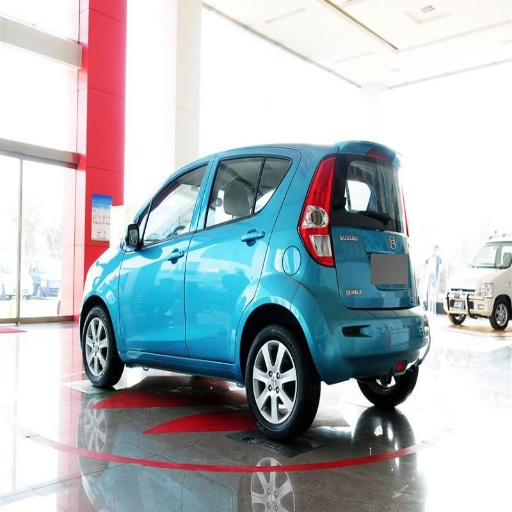back_bumper: (298, 296, 429, 380)
back_left_door: (186, 156, 275, 360)
trunk: (334, 206, 408, 309)
